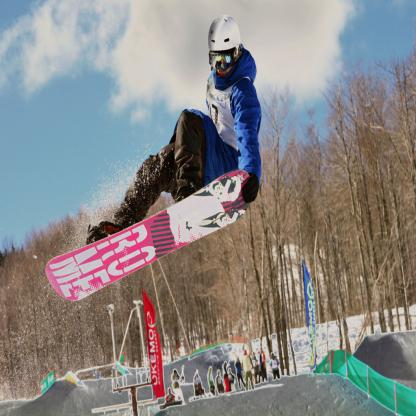Helmet: (207, 11, 242, 83)
